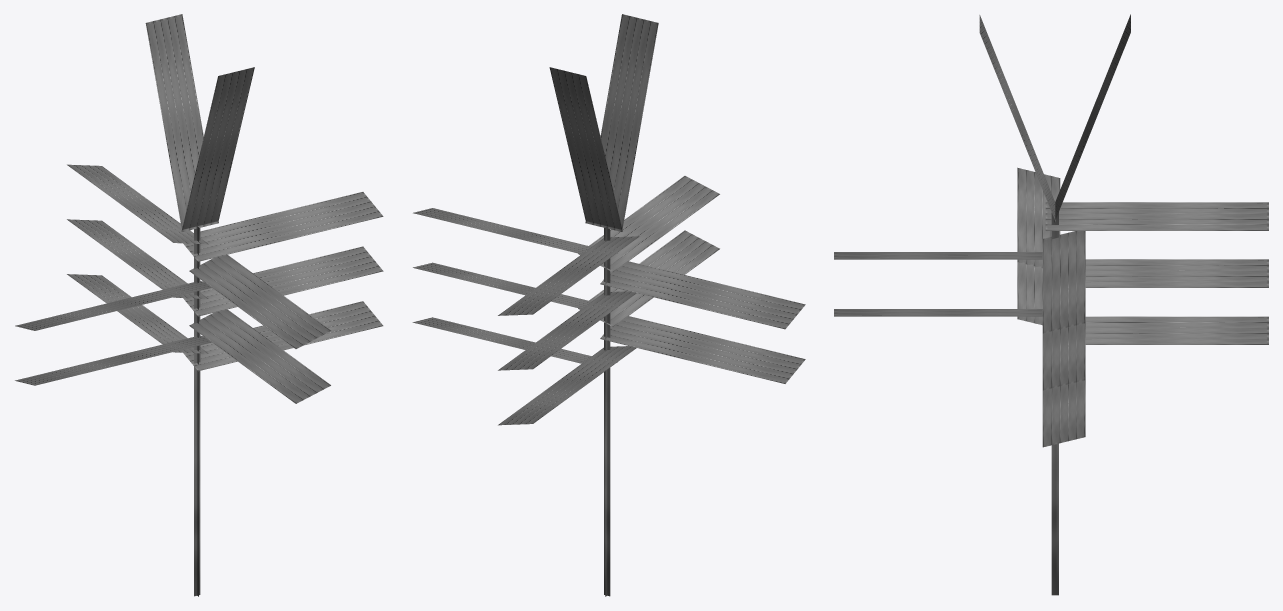
The model's file is antenna_7.obj.
3 renders of one model, left to right at view 1: azimuth 30°, elevation 25°; view 2: azimuth 150°, elevation 25°; view 3: azimuth 270°, elevation 25°, orthographic. The views are drawn at different scales.
Visible parts, largest first — view 1: antenna_7; view 2: antenna_7; view 3: antenna_7.
Part boxes in pixels (box(x1,y1,x2,y2)): antenna_7: box(15, 14, 383, 596); antenna_7: box(412, 14, 805, 596); antenna_7: box(834, 14, 1268, 595).
Size of the model in its own units: 1.25 by 1.83 by 1.25.
Materials: 1 (1 with a texture image).
